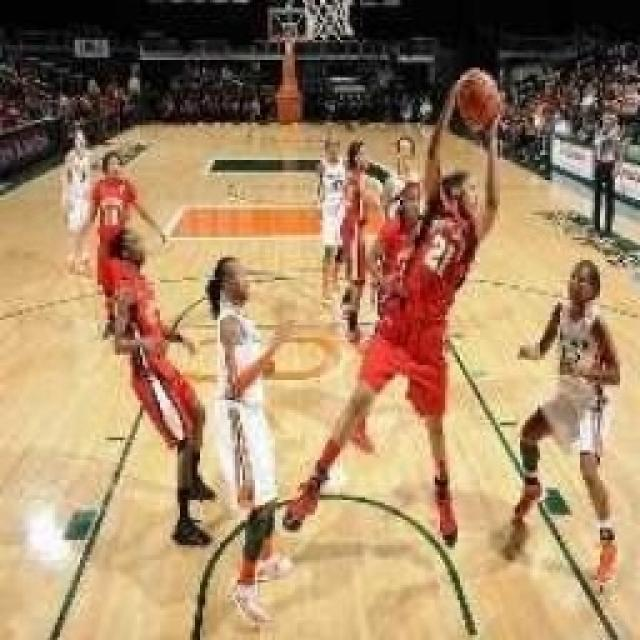rim: (454, 68, 501, 130)
